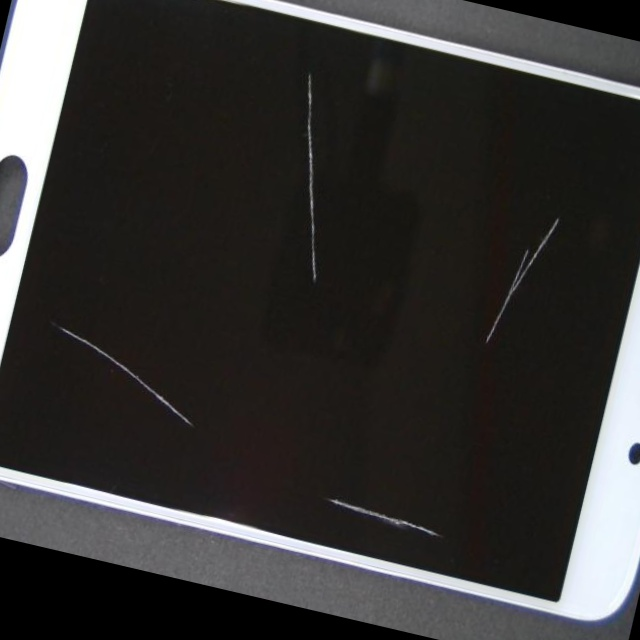scratch: (141, 244, 640, 640), (275, 73, 640, 338), (120, 199, 320, 592), (175, 31, 489, 190)
